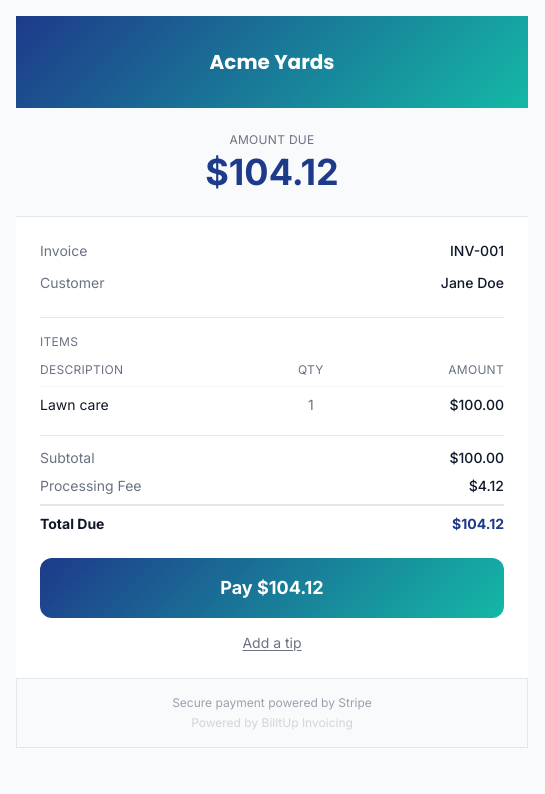
Test: PaymentPage tips › shows a checkout error message from the server
Expected: the button "Pay $104.12" is shown, [40,558,504,618]
Click the button "Add a tip" at (272,643), box [242,633,302,653]
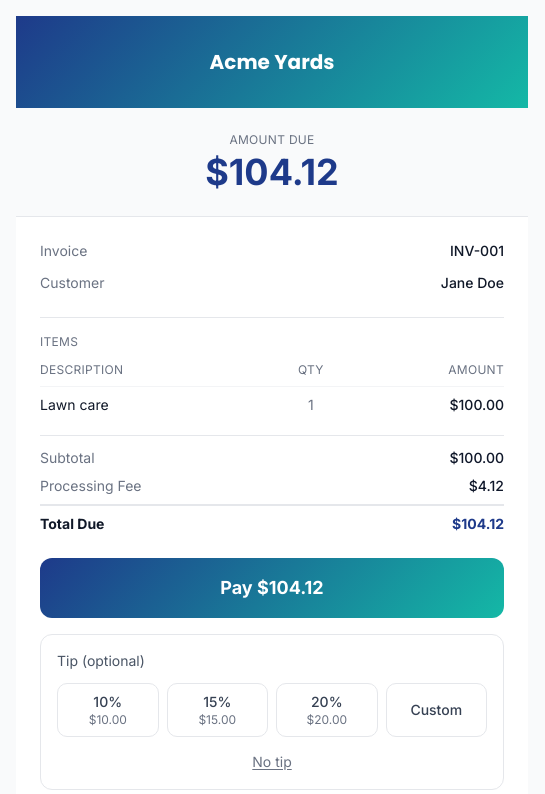
Click the button "10% $10.00" at (108,710), box [57,683,158,737]
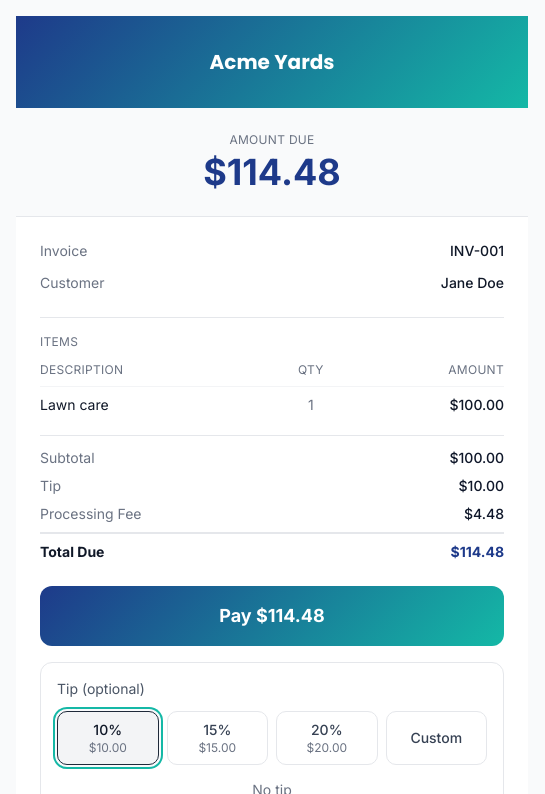
Click the button "Pay $114.48" at (272,616), box [40,586,504,646]
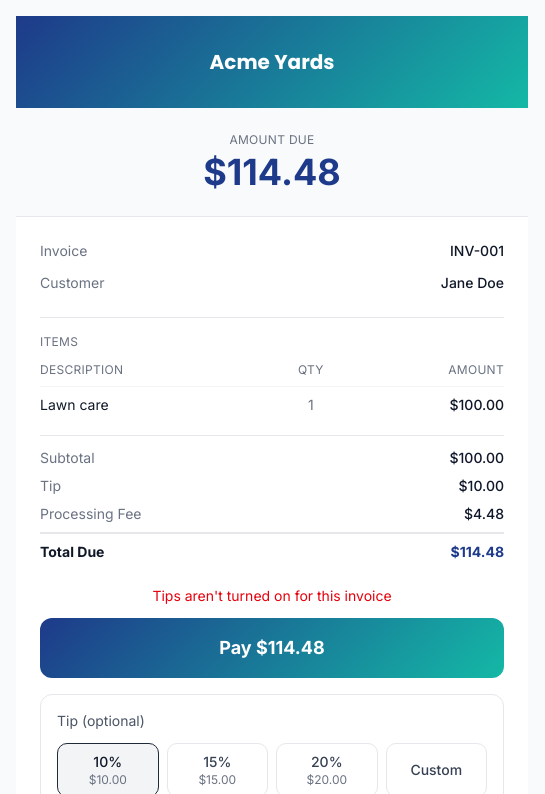
Expected: the message reads "Tips aren't turned on for this invoice", [152,587,392,604]
